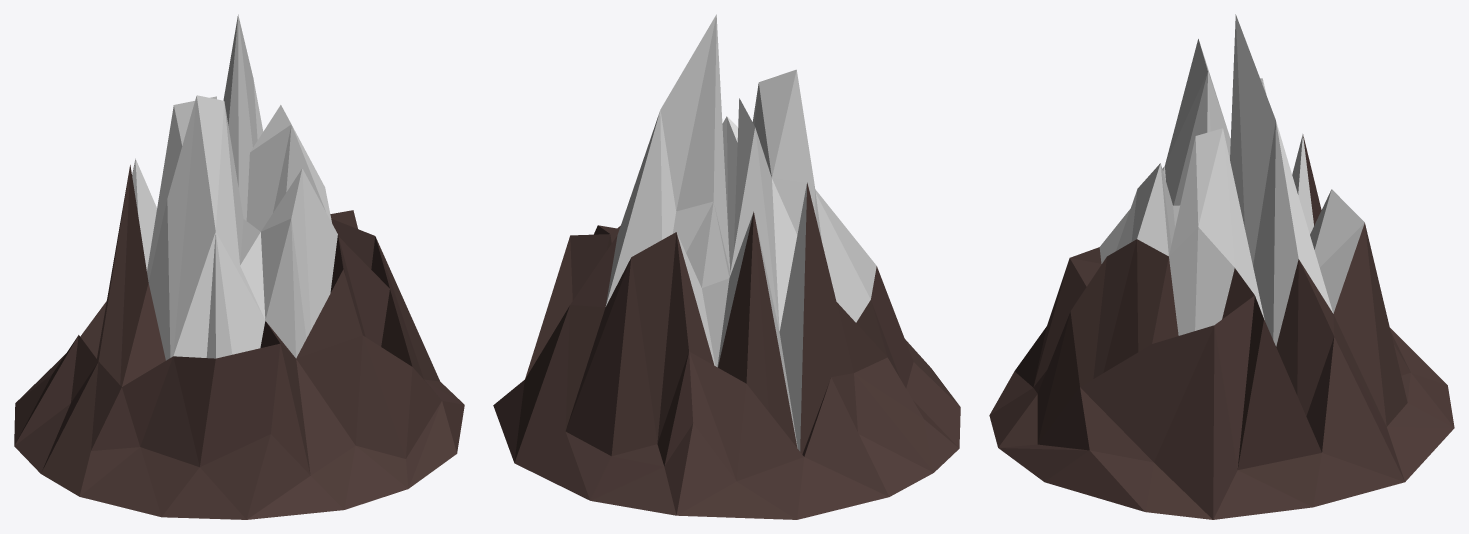
The model's file is montaña-1_lowpoly (1).fbx.
3 views of the same model, side by side, from view 1: azimuth 30°, elevation 25°; view 2: azimuth 150°, elevation 25°; view 3: azimuth 270°, elevation 25° (orthographic). The views are drawn at different scales.
Parts seen in each view (by area): view 1: Circle.001; view 2: Circle.001; view 3: Circle.001.
Boxes of the visible parts, x1,y1,x2,y2 form: Circle.001: (14,14,464,519); Circle.001: (493,14,960,519); Circle.001: (989,14,1454,519).
Bounding box in the file's own units: 2105 × 2064 × 2113.
